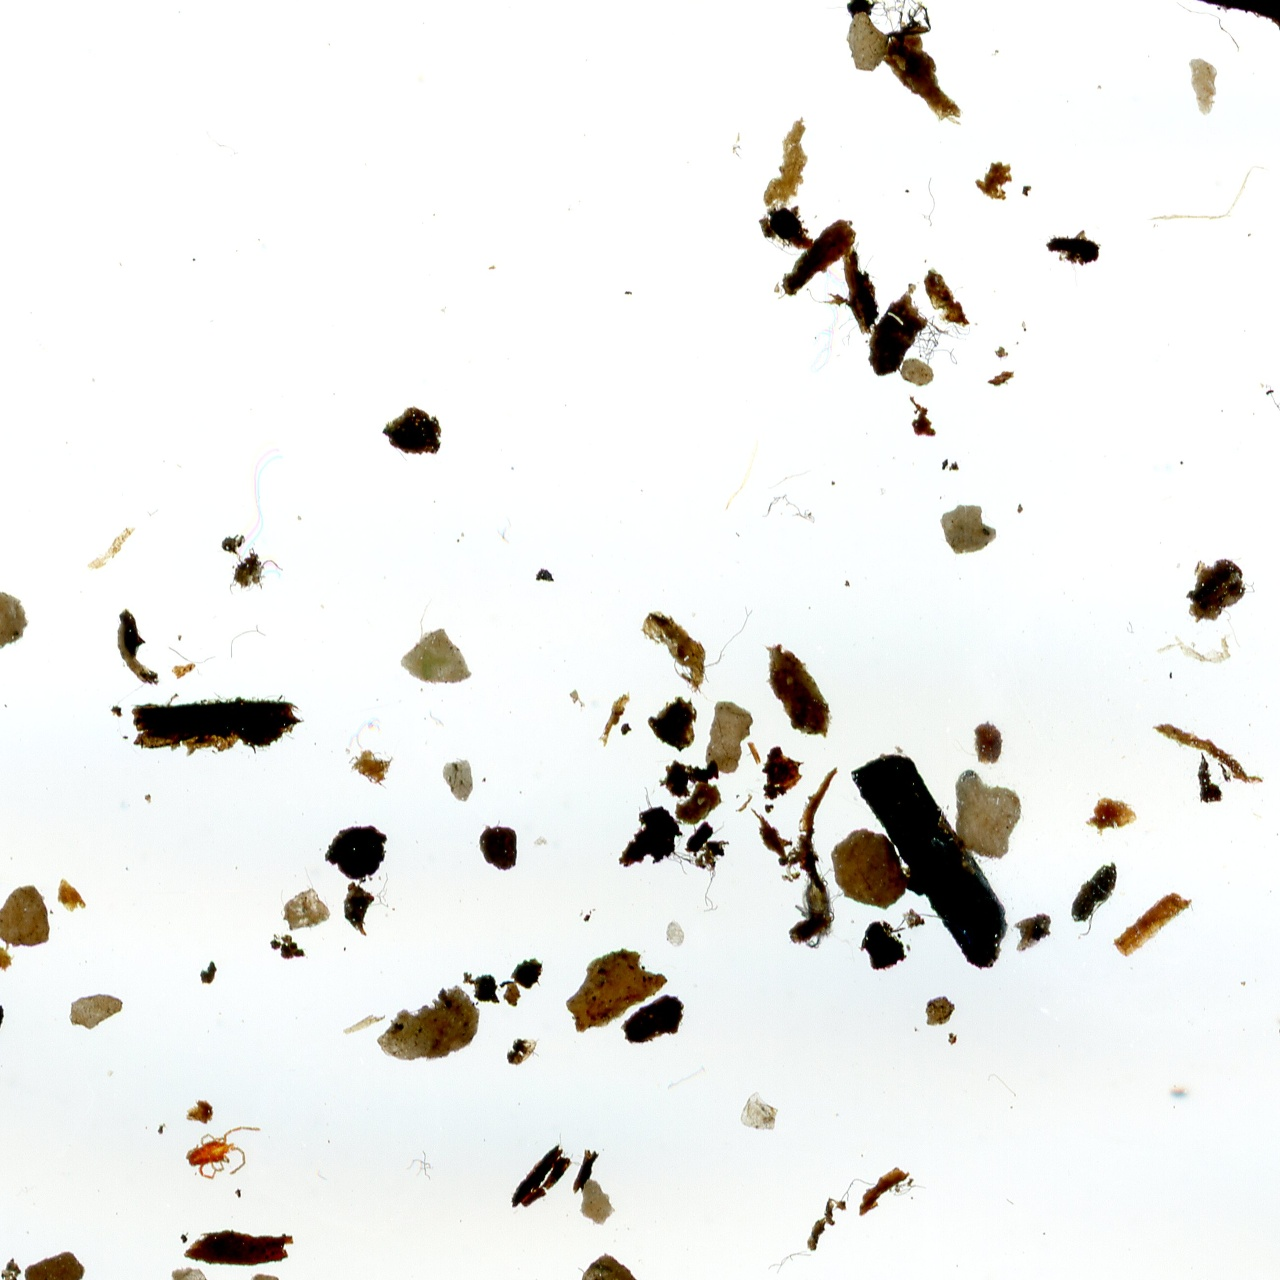arthropod: (184, 1122, 264, 1183)
